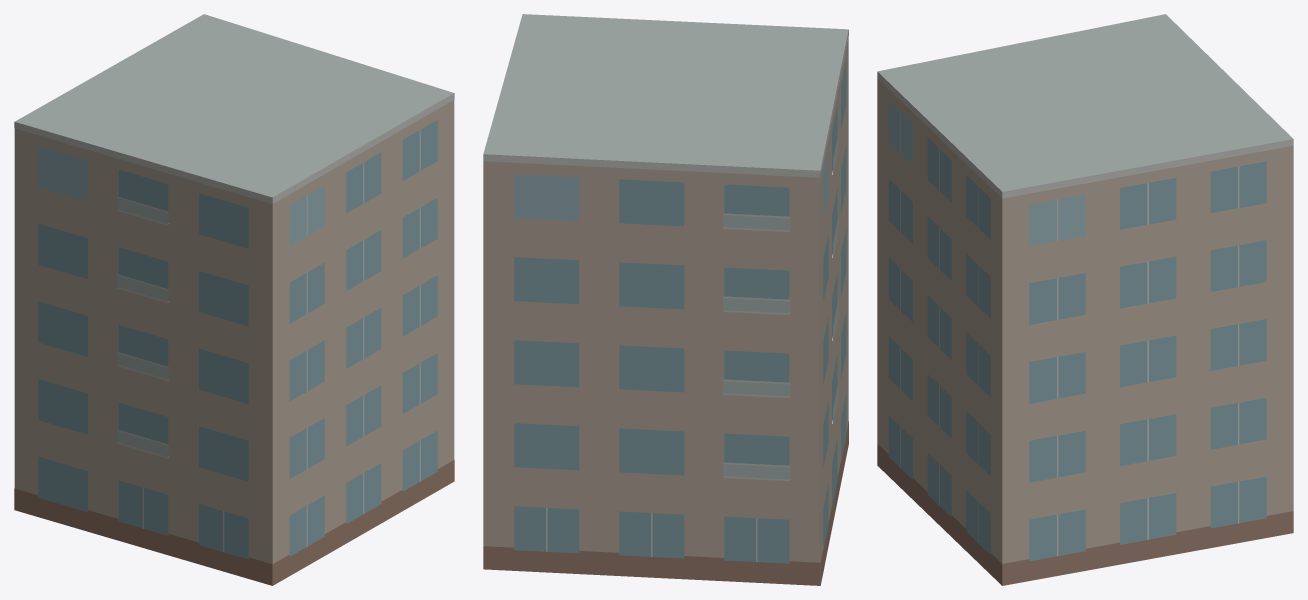
The model's file is survey-upis-33014025.glb.
The picture shows the model from 3 angles, left to right: view 1: azimuth 30°, elevation 25°; view 2: azimuth 150°, elevation 25°; view 3: azimuth 270°, elevation 25°; orthographic projection. The views are drawn at different scales.
Visible parts, largest first — view 1: survey-upis-33014025.tmp; view 2: survey-upis-33014025.tmp; view 3: survey-upis-33014025.tmp.
Boxes of the visible parts, x1,y1,x2,y2 form: survey-upis-33014025.tmp: (14, 14, 454, 585); survey-upis-33014025.tmp: (483, 14, 848, 585); survey-upis-33014025.tmp: (877, 14, 1293, 585).
Bounding box in the file's own units: 13.95 × 14.4 × 13.8.
